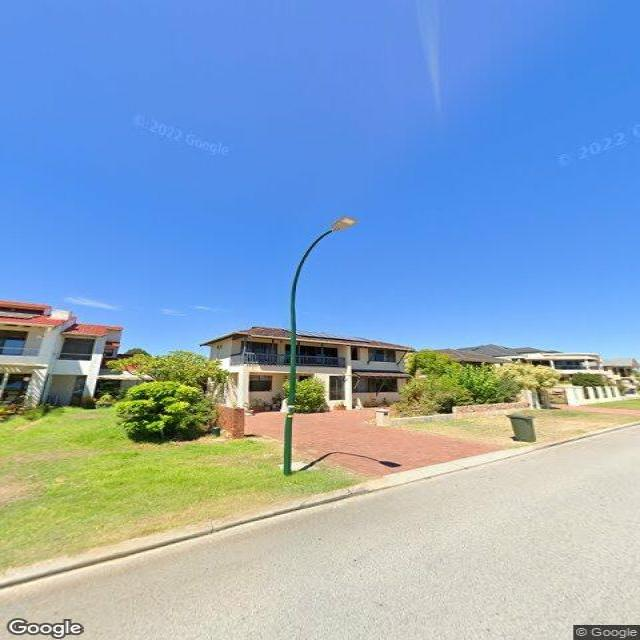steel-pole: (283, 300, 297, 476)
streetlight: (290, 214, 358, 303)
